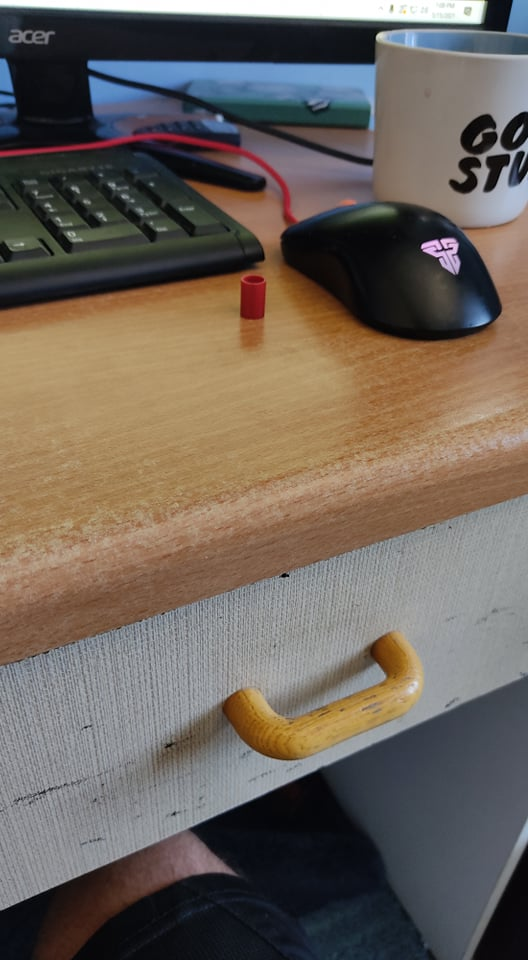red_bucking: (238, 269, 268, 327)
